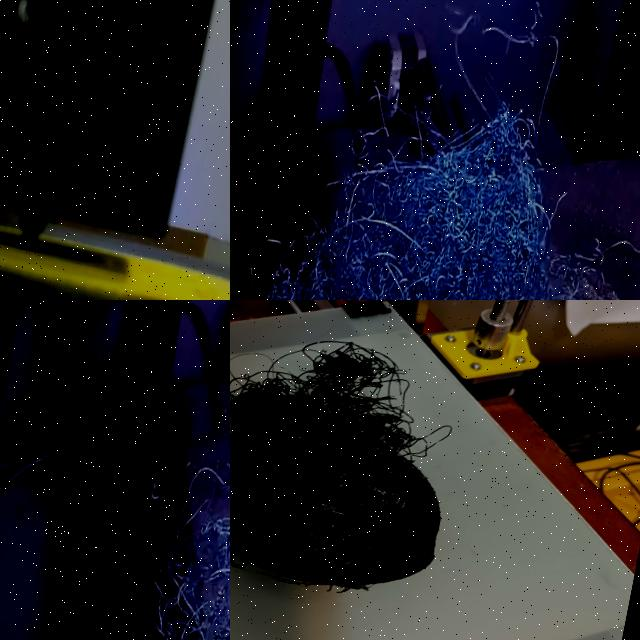spaghetti: (230, 0, 640, 300), (230, 300, 499, 628), (94, 300, 230, 640)
